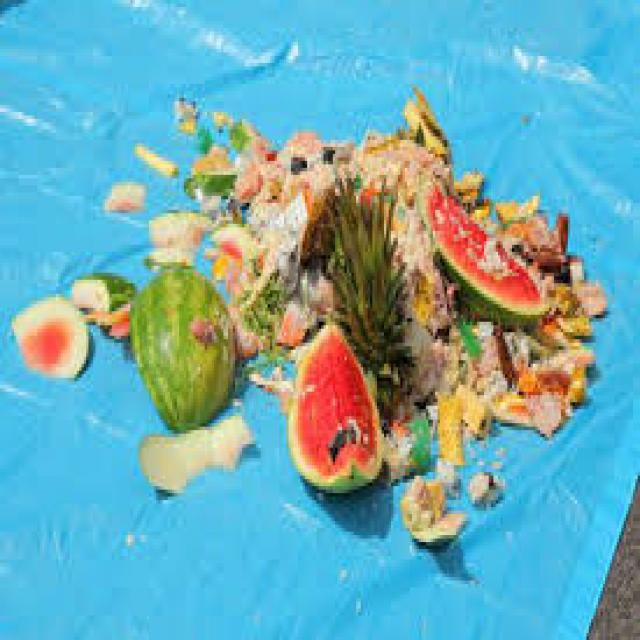food_waste: (215, 137, 546, 421)
